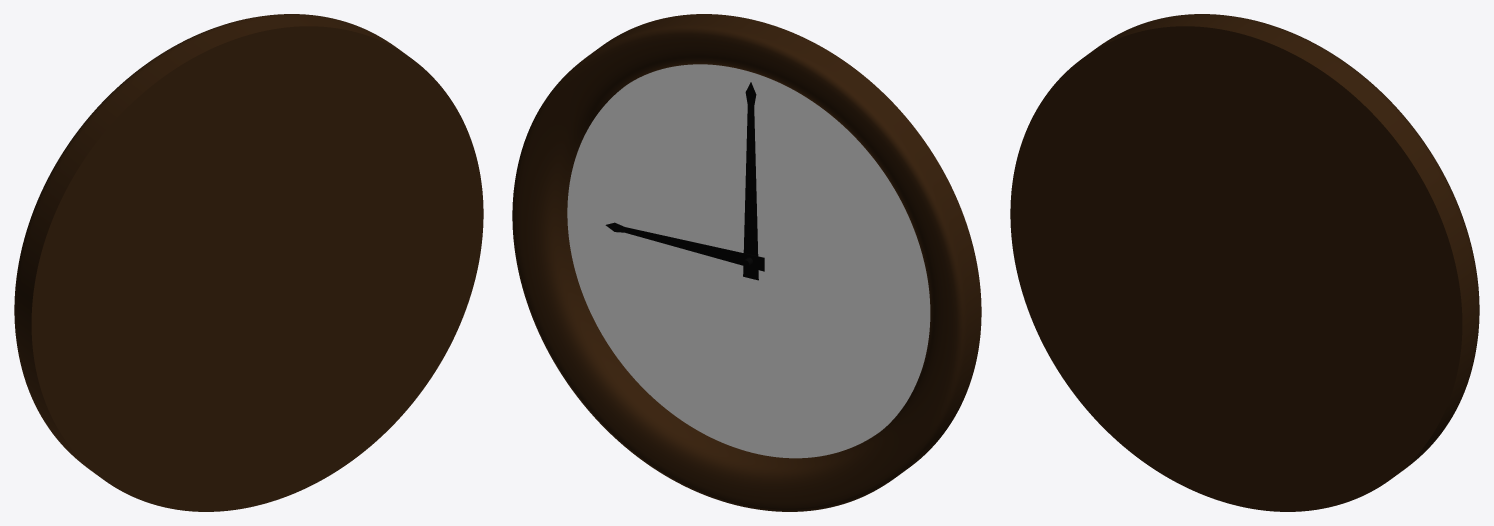
Rendered from clock.fbx.
3 renders of one model, left to right at view 1: azimuth 30°, elevation 25°; view 2: azimuth 150°, elevation 25°; view 3: azimuth 330°, elevation 25°, orthographic.
Visible parts, largest first — view 1: Circle; view 2: Circle, Minute_Hand, Hour_Hand; view 3: Circle.
Boxes of the visible parts, x1,y1,x2,y2 form: Circle: [14, 14, 483, 511]; Circle: [512, 14, 981, 511]; Minute_Hand: [743, 82, 758, 280]; Hour_Hand: [605, 222, 764, 271]; Circle: [1010, 14, 1479, 511].
Size of the model in its own units: 0.4 by 0.4 by 0.0299.
